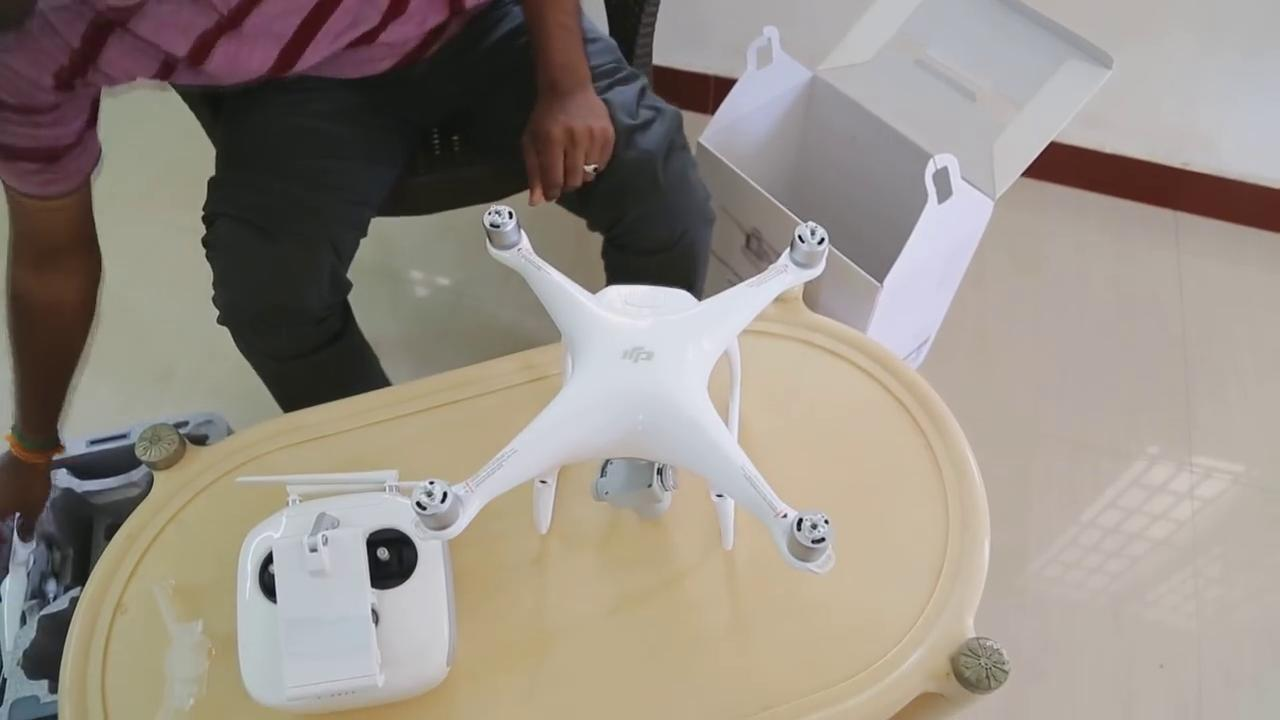drone: (384, 196, 860, 574)
